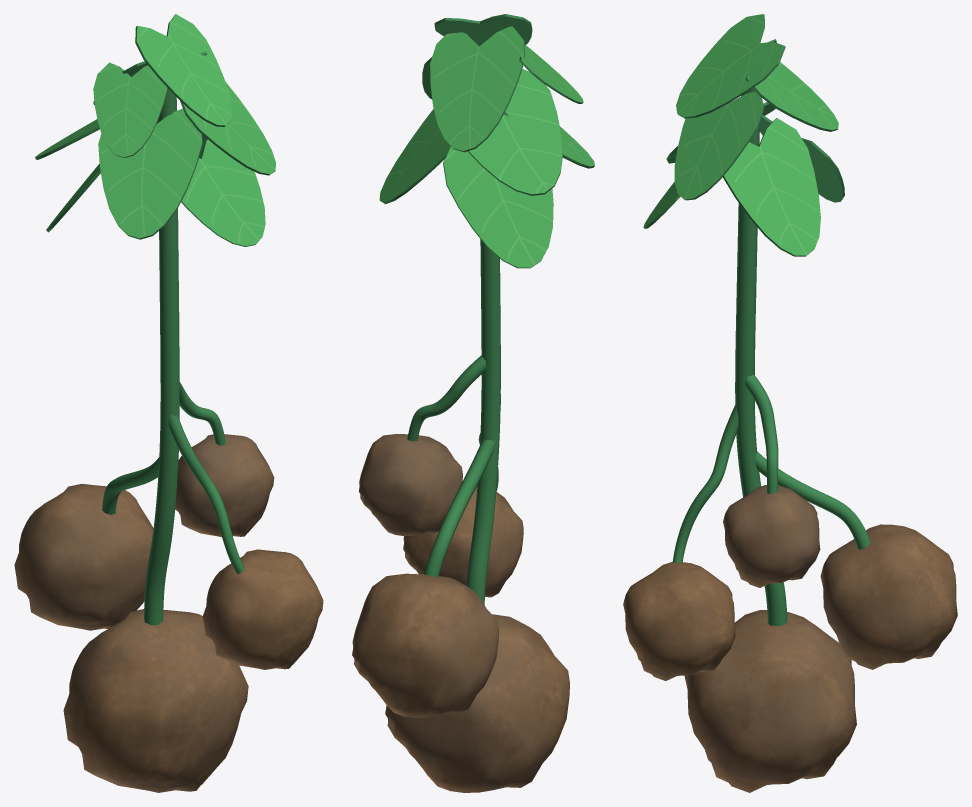
The model's file is jagaimo.fbx.
3 views of the same model, side by side, from view 1: azimuth 30°, elevation 25°; view 2: azimuth 150°, elevation 25°; view 3: azimuth 270°, elevation 25° (orthographic).
Parts seen in each view (by area): view 1: zyagaimo, zyagaimo3, zyagaimo1, pCylinder12, sweep1, zyagaimo2, pCylinder7, pCylinder15, pCylinder8, pCylinder10, sweep3, sweep2 (+3 smaller); view 2: zyagaimo, zyagaimo3, pCylinder9, zyagaimo2, pCylinder14, pCylinder11, sweep1, zyagaimo1, pCylinder13, sweep2, pCylinder7, sweep4 (+2 smaller); view 3: zyagaimo, zyagaimo3, zyagaimo1, pCylinder13, zyagaimo2, sweep1, pCylinder7, pCylinder10, pCylinder9, sweep3, sweep2, sweep4 (+1 smaller).
Boxes of the visible parts, box(x1,y1,x2,y2) form: zyagaimo: box(63, 609, 248, 792); zyagaimo3: box(14, 484, 153, 630); zyagaimo1: box(202, 549, 323, 669); pCylinder12: box(98, 108, 202, 239); sweep1: box(144, 88, 179, 625); zyagaimo2: box(175, 434, 274, 537); pCylinder7: box(135, 14, 232, 126); pCylinder15: box(181, 139, 265, 246); pCylinder8: box(93, 62, 167, 157); pCylinder10: box(180, 82, 275, 175); sweep3: box(168, 414, 244, 573); sweep2: box(102, 457, 159, 514); zyagaimo: box(385, 614, 569, 792); zyagaimo3: box(352, 573, 498, 717); pCylinder9: box(430, 26, 524, 152); zyagaimo2: box(359, 433, 462, 535); pCylinder14: box(443, 146, 553, 268); pCylinder11: box(468, 69, 562, 195); sweep1: box(466, 239, 500, 604); zyagaimo1: box(403, 485, 523, 597); pCylinder13: box(379, 109, 450, 204); sweep2: box(424, 439, 496, 576); pCylinder7: box(434, 14, 532, 46); sweep4: box(407, 355, 486, 441); zyagaimo: box(684, 610, 856, 792); zyagaimo3: box(820, 524, 957, 669); zyagaimo1: box(623, 561, 735, 680); pCylinder13: box(723, 118, 820, 256); zyagaimo2: box(723, 485, 820, 587); sweep1: box(735, 88, 787, 625); pCylinder7: box(676, 14, 785, 118); pCylinder10: box(674, 91, 763, 200); pCylinder9: box(745, 62, 838, 131); sweep3: box(672, 405, 738, 562); sweep2: box(755, 451, 870, 549); sweep4: box(745, 374, 778, 493).
Bounding box in the file's own units: 2.74 × 9.58 × 3.86.
